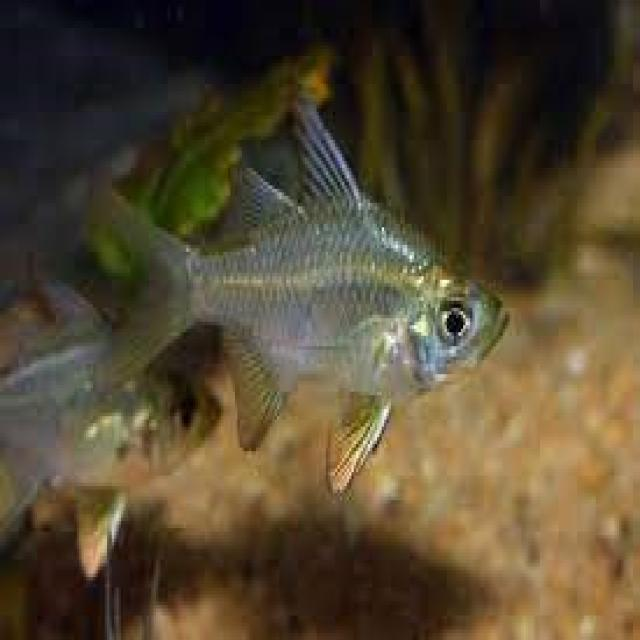Glass-Perchlet: (51, 87, 555, 503)
